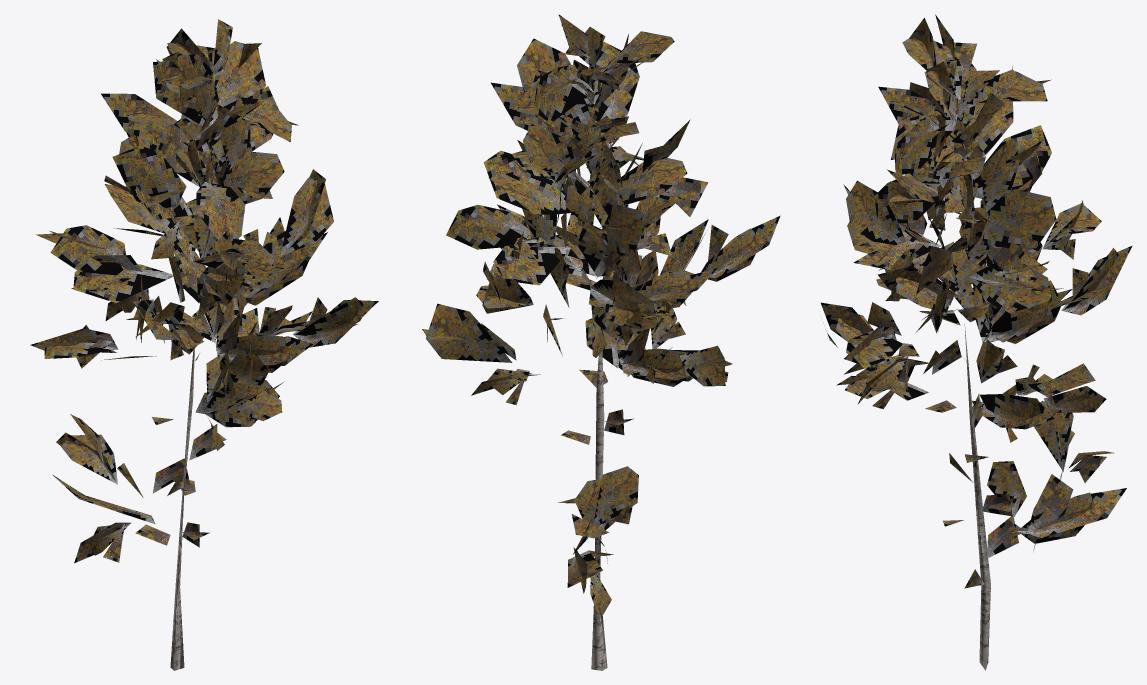
Rendered from tundra-birch-big-mid.glb.
The picture shows the model from 3 angles, left to right: view 1: azimuth 30°, elevation 25°; view 2: azimuth 150°, elevation 25°; view 3: azimuth 270°, elevation 25°; orthographic projection.
Visible parts, largest first — view 1: birch_big_tundra_LOD0; view 2: birch_big_tundra_LOD0; view 3: birch_big_tundra_LOD0.
Boxes of the visible parts, x1,y1,x2,y2 form: birch_big_tundra_LOD0: (30, 19, 378, 670); birch_big_tundra_LOD0: (422, 14, 780, 670); birch_big_tundra_LOD0: (821, 14, 1132, 670).
Bounding box in the file's own units: 11.35 × 25.21 × 11.55.
1 material, 1 textured.
